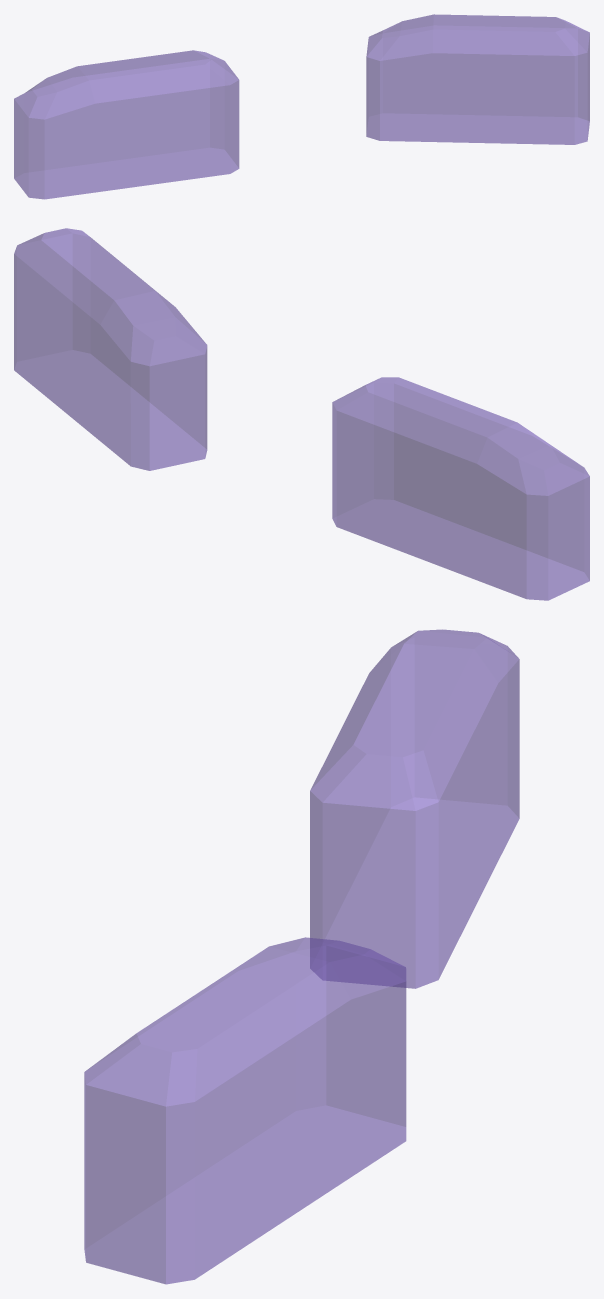
File: SM_Obstacle_05_Collision.fbx
The picture shows the model from 3 angles, top to bottom: view 1: azimuth 30°, elevation 25°; view 2: azimuth 150°, elevation 25°; view 3: azimuth 270°, elevation 25°; orthographic projection. The views are drawn at different scales.
Visible parts, largest first — view 1: Obstacle_05_Collision; view 2: Obstacle_05_Collision; view 3: Obstacle_05_Collision.
Part boxes in pixels (<box>): Obstacle_05_Collision: <box>14,14,589,199</box>; Obstacle_05_Collision: <box>14,228,589,600</box>; Obstacle_05_Collision: <box>84,629,519,1284</box>.
Bounding box in the file's own units: 487 × 98.01 × 184.
